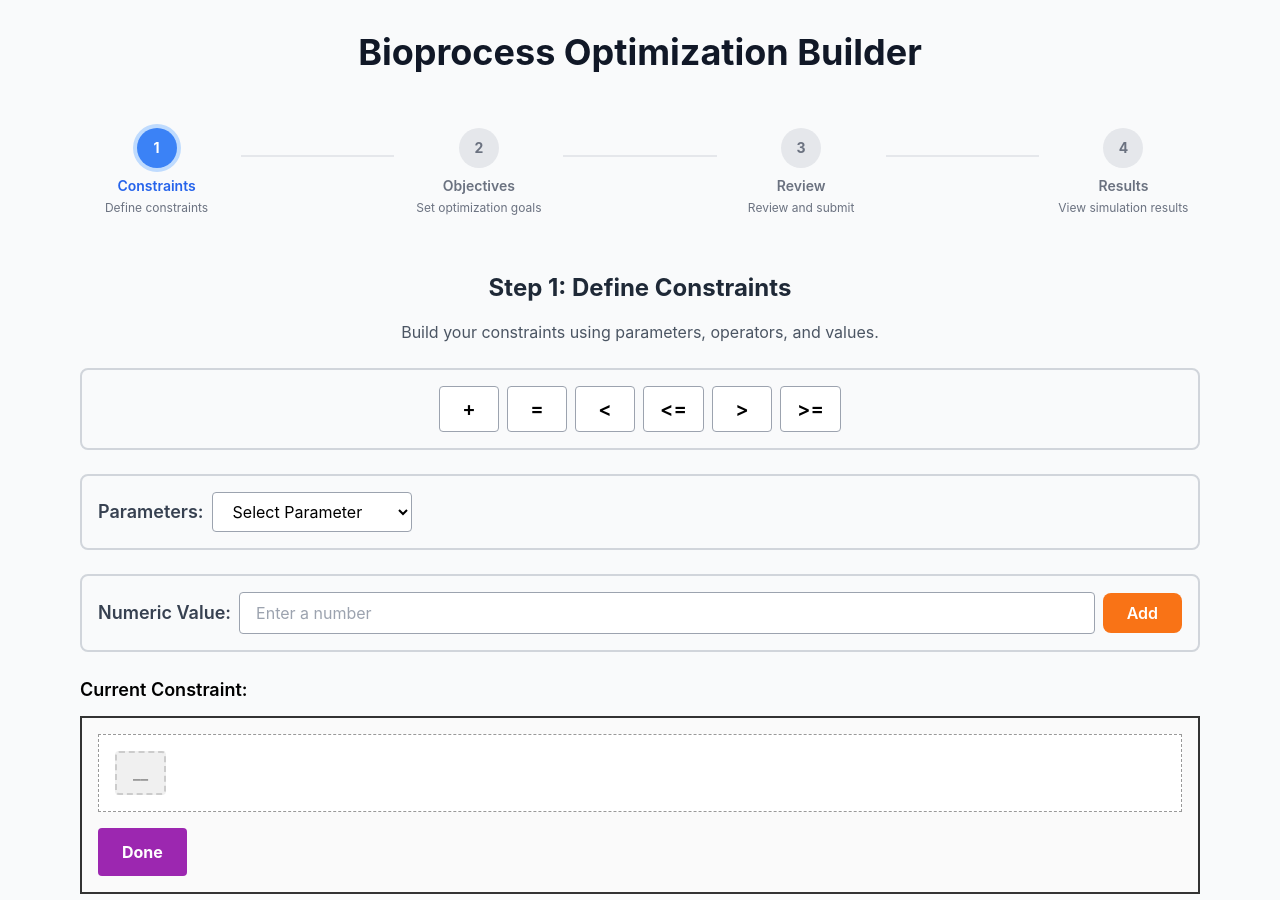
it: Multi-Step Form Navigation › preserves constraint data when navigating between steps
Step 1. Select "glucose_g_L" in the dropdown with test id "parameter-dropdown" → (312, 512), box [212,492,412,532]
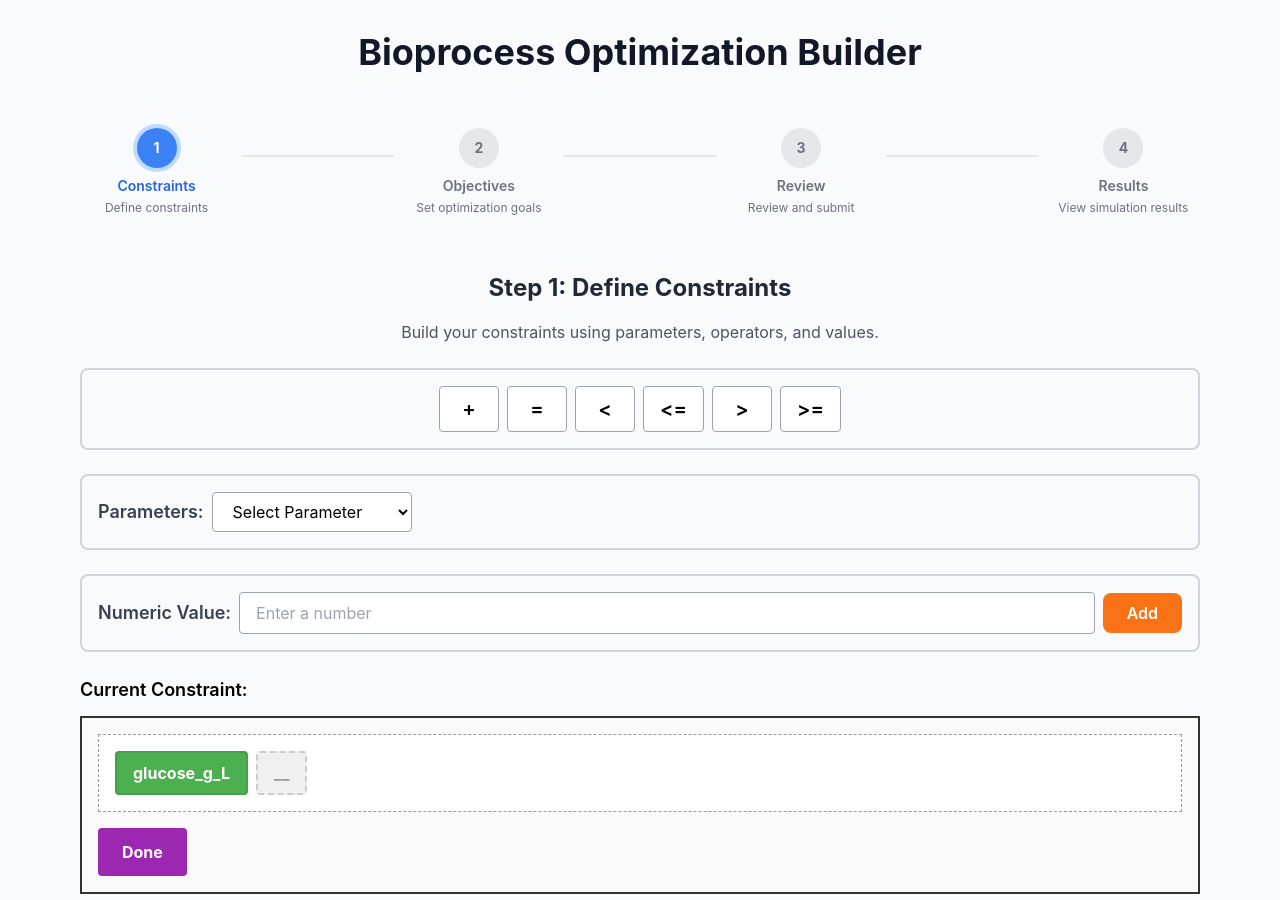
Step 2. Click the button "<=" → click(674, 409), box [643,386,704,432]
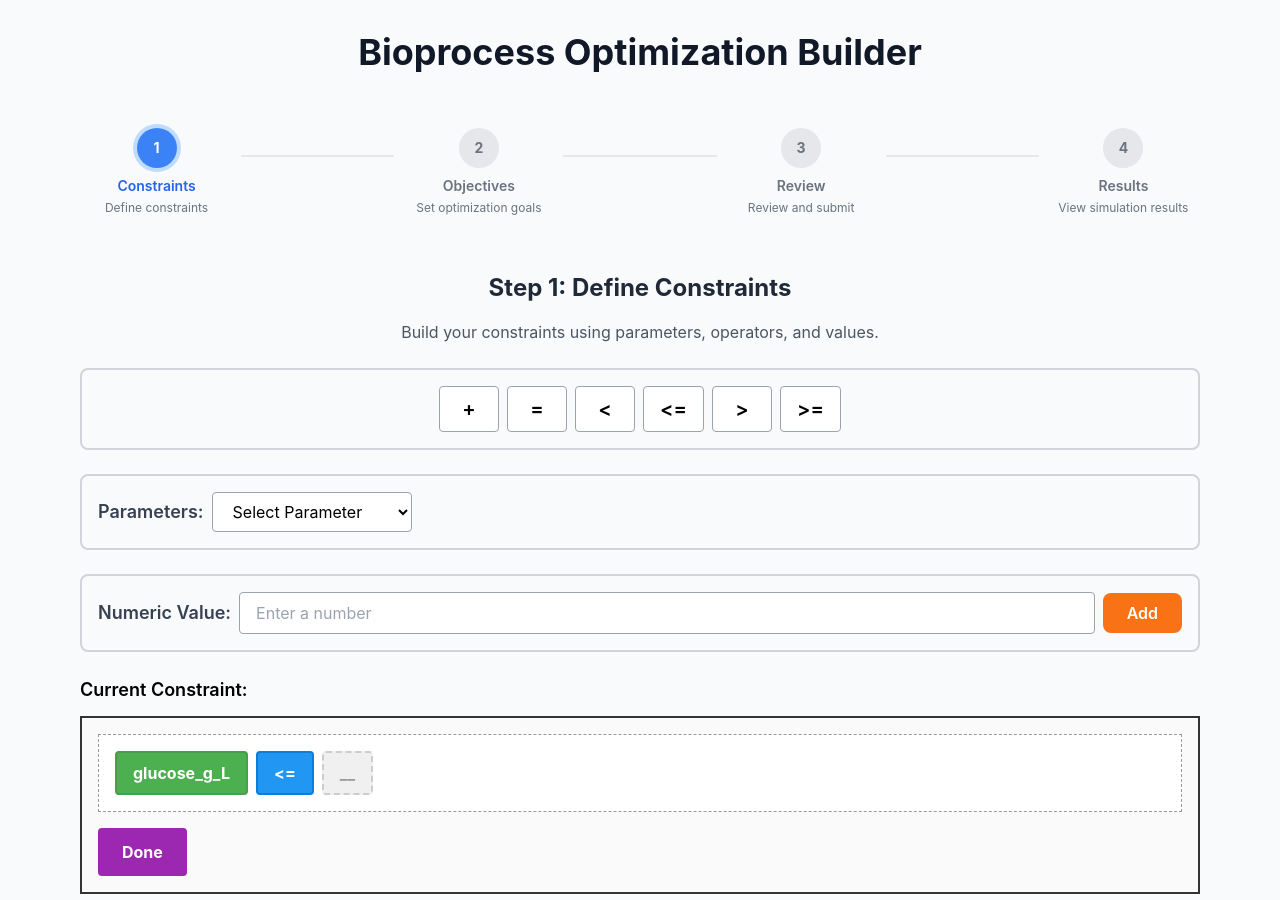
Step 3. Type "50" into the field with test id "value-input" → (667, 613), box [239,592,1095,634]
Step 4. Click the button with test id "add-value-button" → click(1142, 613), box [1103,593,1182,633]
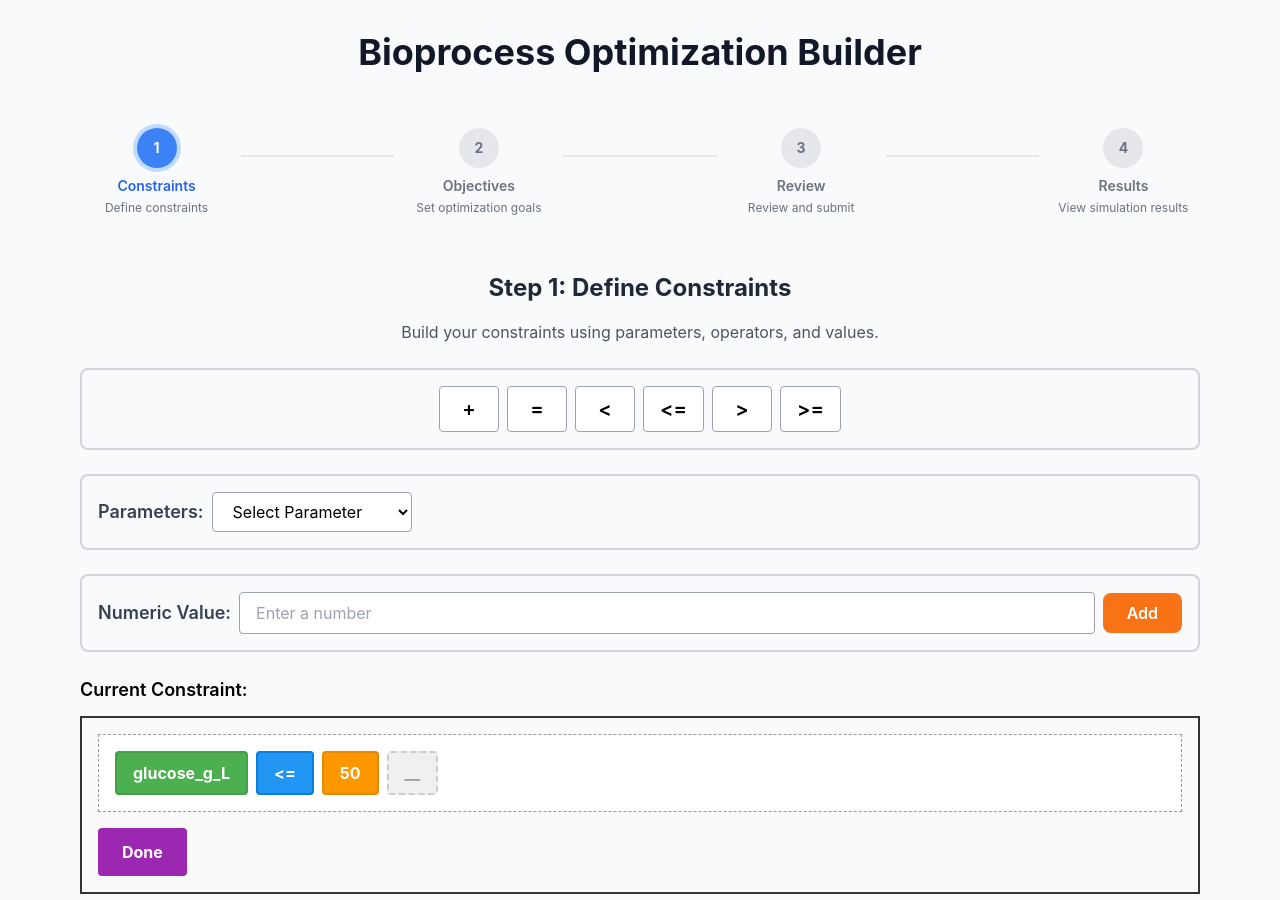
Step 5. Click the button with test id "done-button" → click(142, 852), box [98,828,187,876]
(page scrolled)
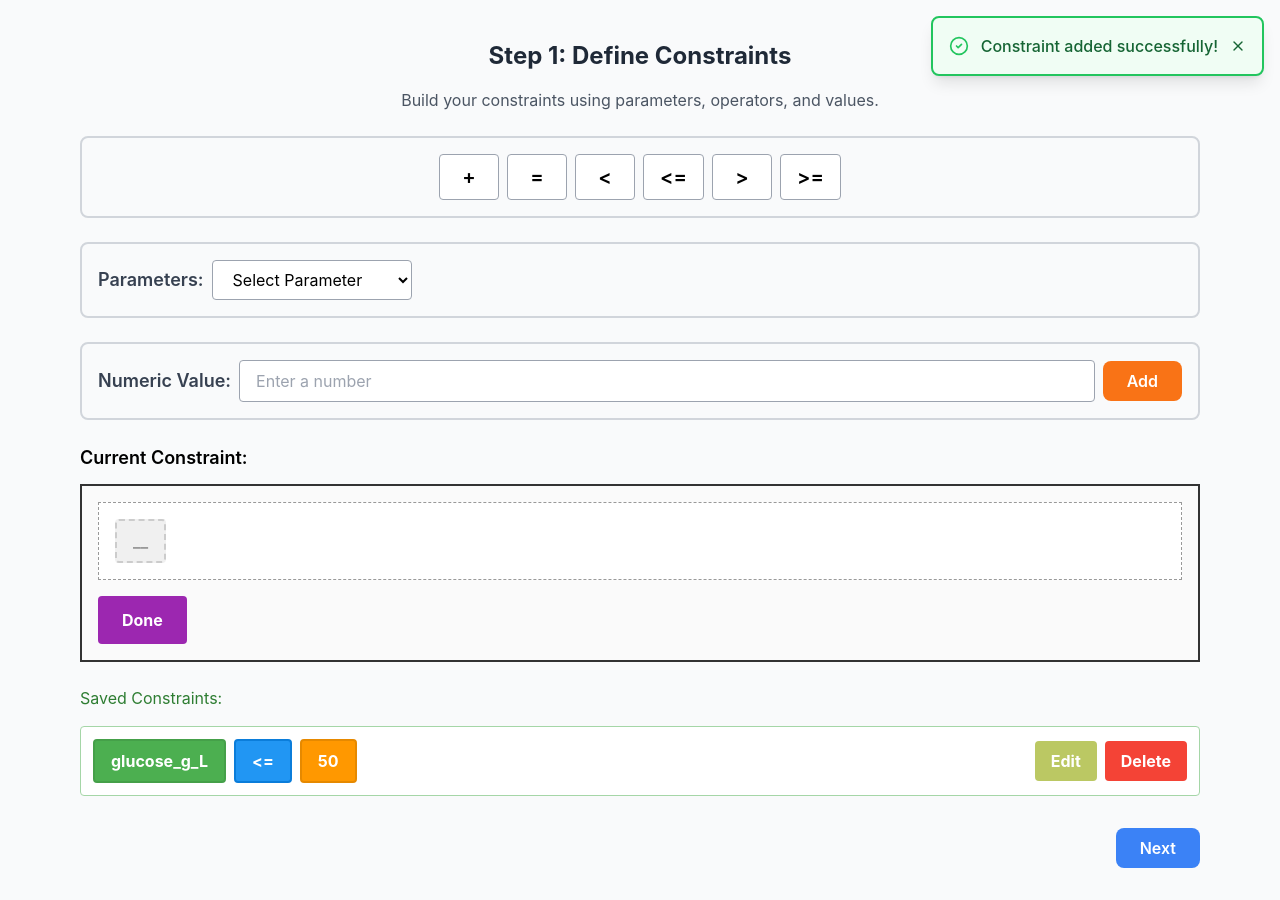
// Navigate to step 2
Step 6. Click the button with test id "next-button" → click(1158, 848), box [1116,828,1200,868]
(page scrolled)
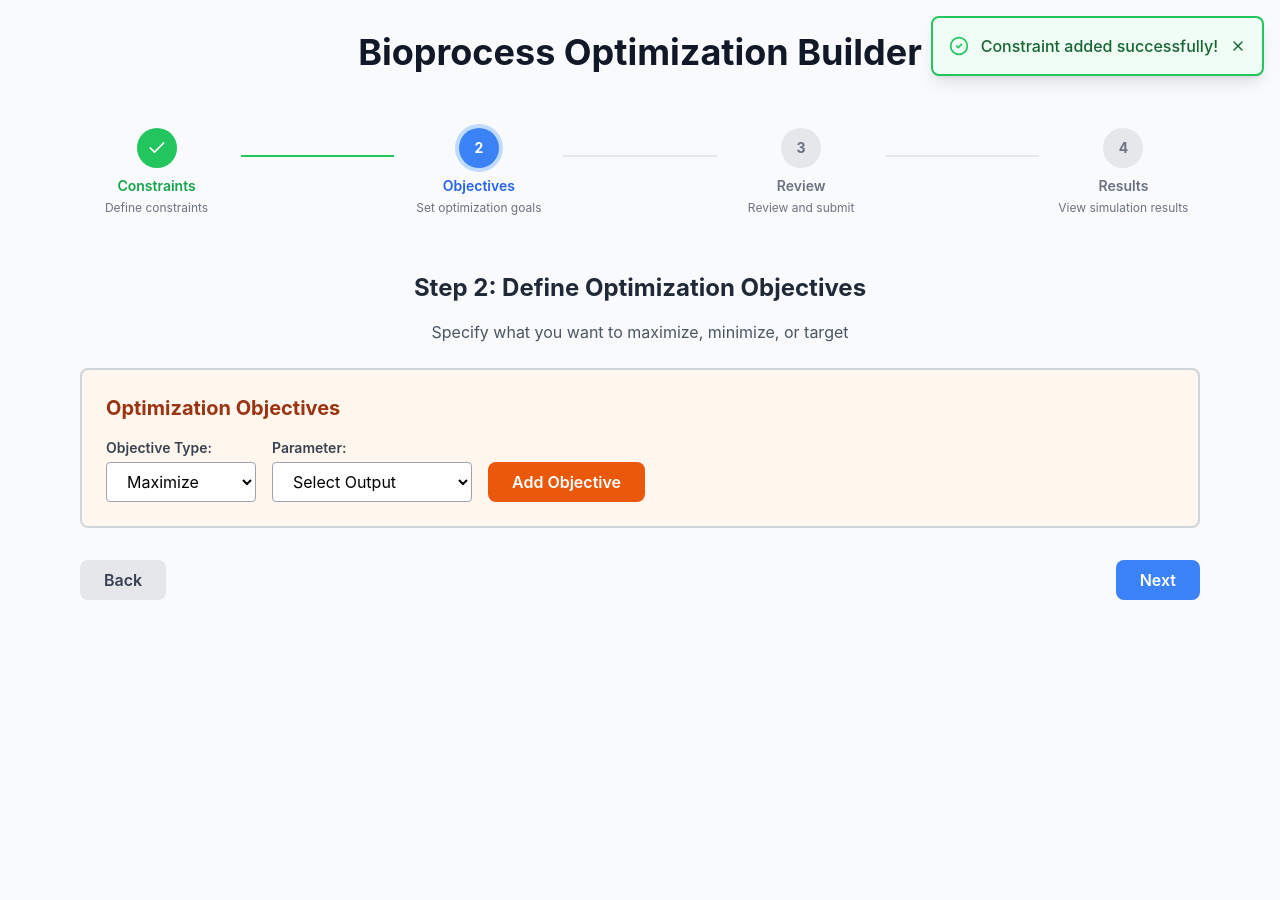
Check: the heading "Step 2: Define Optimization Objectives" is shown, box [414,273,866,302]
// Navigate back to step 1
Step 7. Click the button with test id "back-button" → click(123, 580), box [80,560,166,600]
(page scrolled)
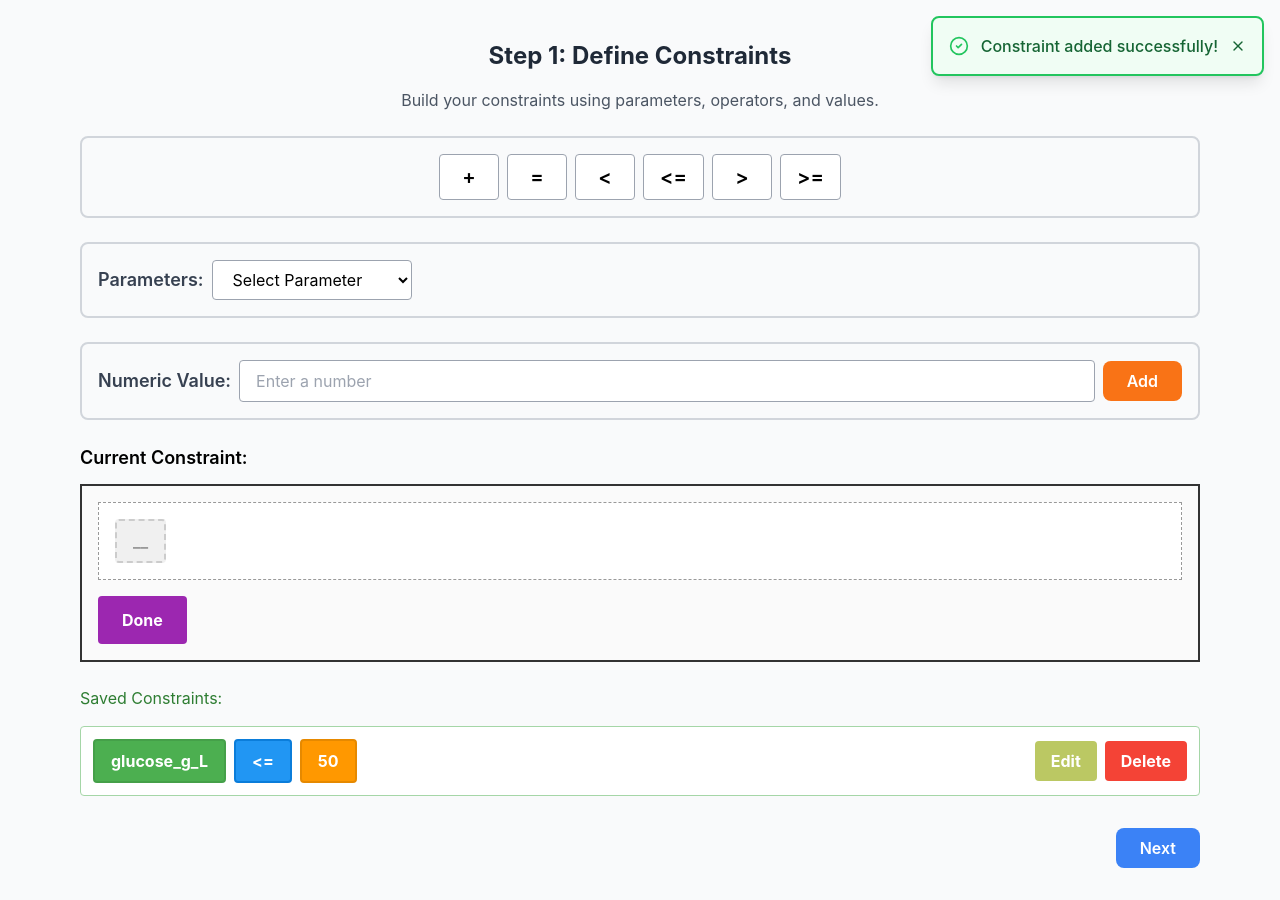
Check: the heading "Saved Constraints:" is shown, box [80,688,222,708]
Check: the text "glucose_g_L" is shown, box [93,739,226,783]
